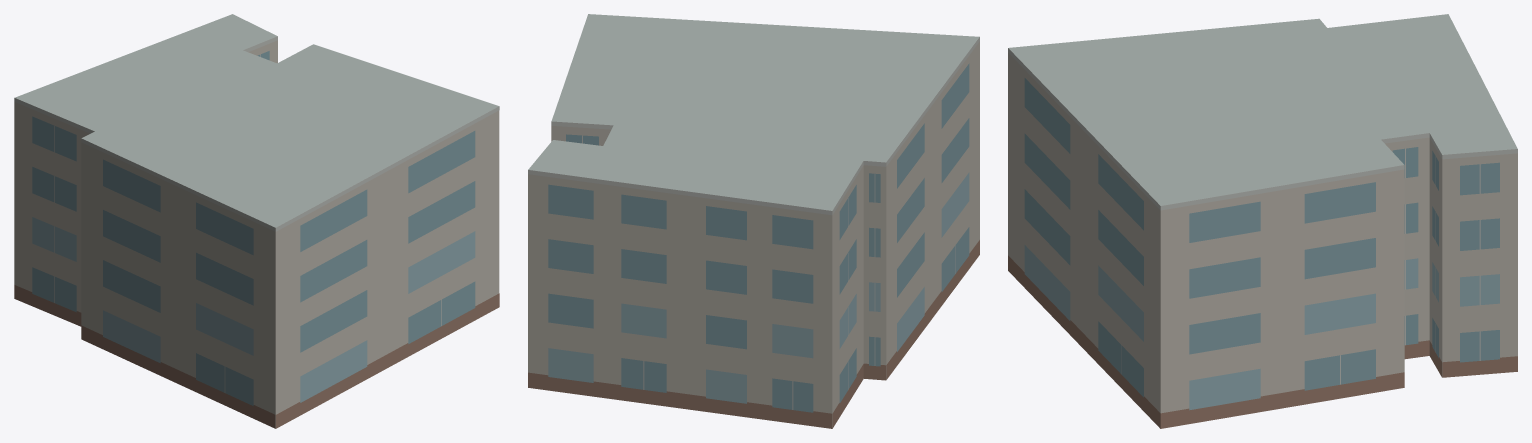
The model's file is residential-5b98bdc3-fbcb-4e6d-9d52-badb67958f13.glb.
3 renders of one model, left to right at view 1: azimuth 30°, elevation 25°; view 2: azimuth 150°, elevation 25°; view 3: azimuth 270°, elevation 25°, orthographic. The views are drawn at different scales.
Parts seen in each view (by area): view 1: residential-5b98bdc3-fbcb-4e6d-9d52-badb67958f13.tmp; view 2: residential-5b98bdc3-fbcb-4e6d-9d52-badb67958f13.tmp; view 3: residential-5b98bdc3-fbcb-4e6d-9d52-badb67958f13.tmp.
Part boxes in pixels (left/top/right/bottom): residential-5b98bdc3-fbcb-4e6d-9d52-badb67958f13.tmp: left=14, top=14, right=499, bottom=428; residential-5b98bdc3-fbcb-4e6d-9d52-badb67958f13.tmp: left=528, top=14, right=979, bottom=428; residential-5b98bdc3-fbcb-4e6d-9d52-badb67958f13.tmp: left=1008, top=14, right=1517, bottom=428.
Bounding box in the file's own units: 22.57 × 12.2 × 25.3.
